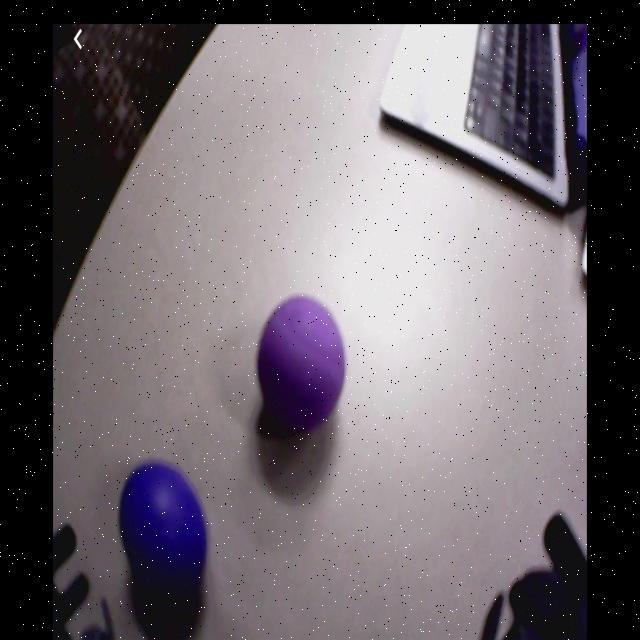ball: (256, 295, 347, 435), (118, 459, 207, 591)
